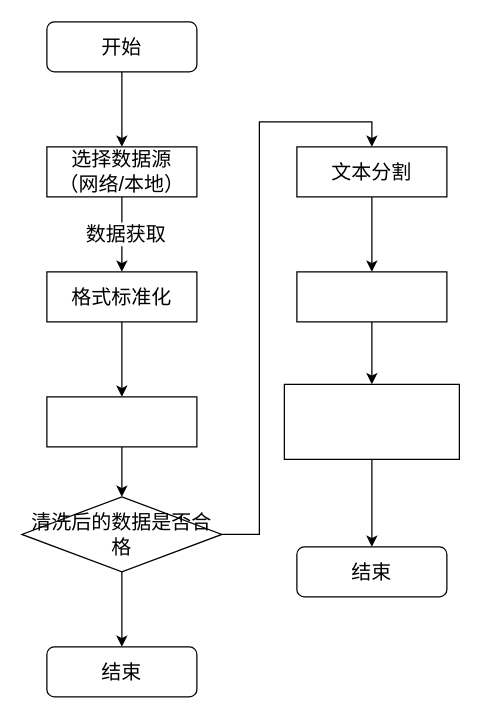
Some shapes in this 481 by 719 pixel diagram are drawn without their labels. Here are the shapes that lost their labels. From the top down, the box of each, then its label:
(296, 271, 447, 322): 调用Embedding模型生成向量
(46, 396, 197, 447): 数据清洗
(283, 383, 459, 459): 数据持久化 （向量化数据以及元数据）
